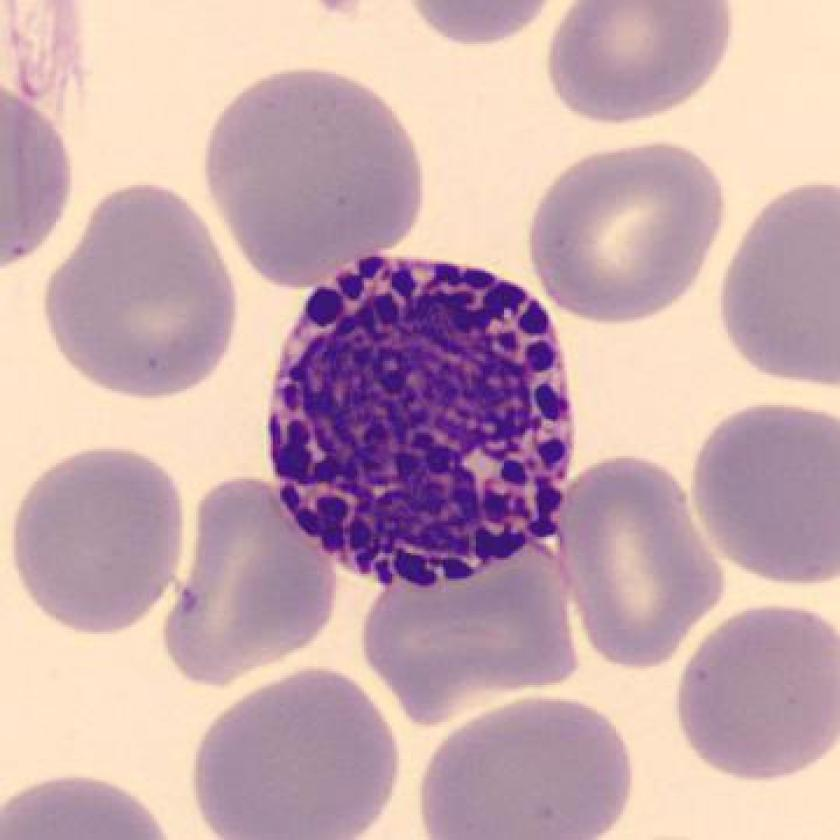basophil: (267, 251, 573, 584)
